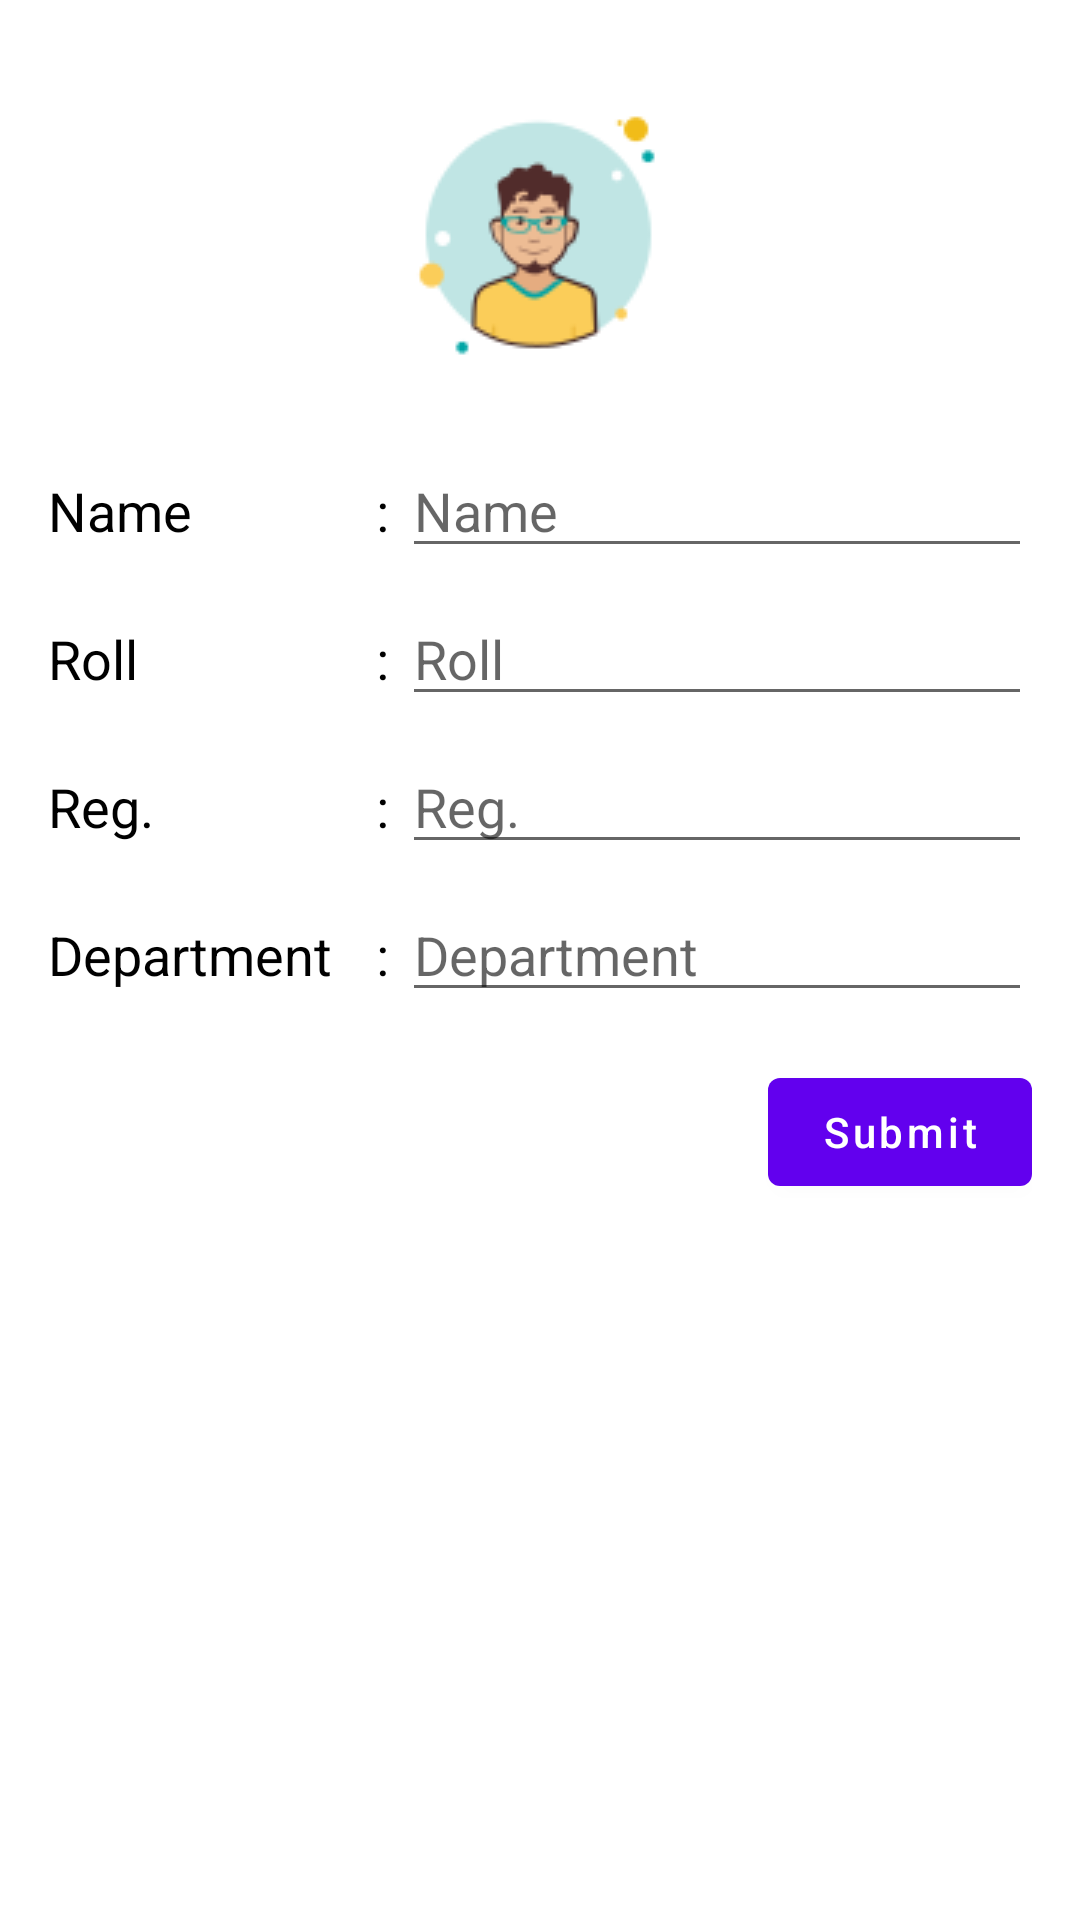

Screen size 1080 × 1920. Icon name, then its box in pixels as (x1, y1, x2, y2):
man: (419, 116, 655, 355)
